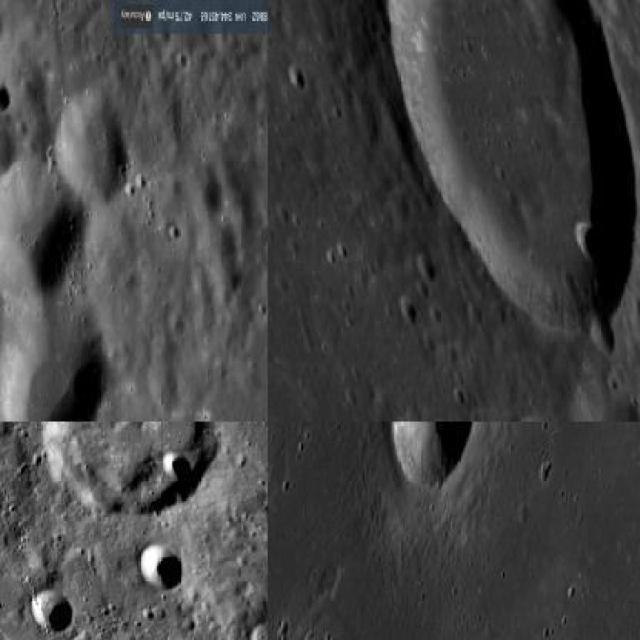crater: (381, 0, 638, 338), (34, 421, 214, 517), (0, 295, 105, 420), (0, 160, 85, 297), (52, 94, 123, 201), (389, 422, 478, 489), (29, 588, 72, 634), (137, 546, 180, 589), (591, 312, 614, 356), (168, 454, 192, 484), (288, 66, 306, 91), (0, 80, 11, 115)
